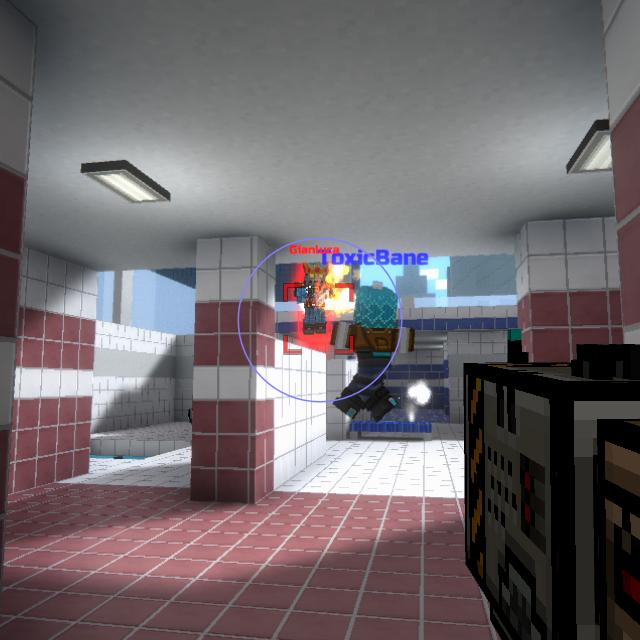Enemy: (292, 261, 333, 334)
